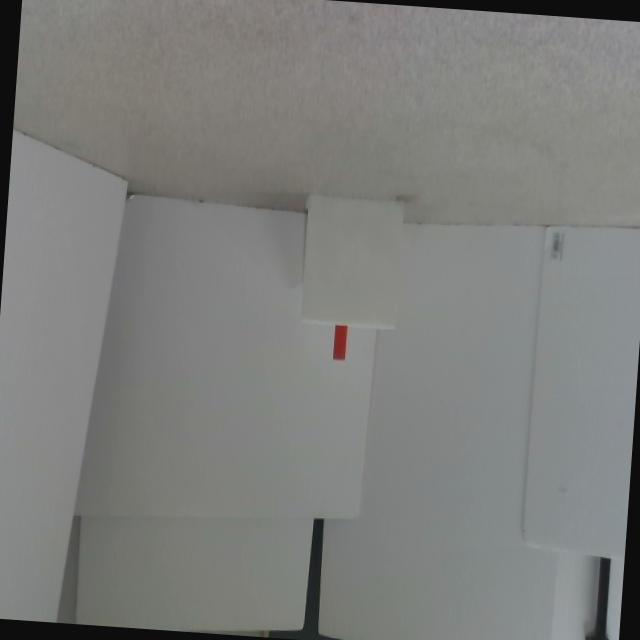red_cylinder: (332, 325, 347, 359)
